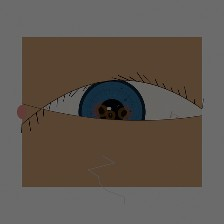foreign_body_visible: (82, 95, 121, 126)
